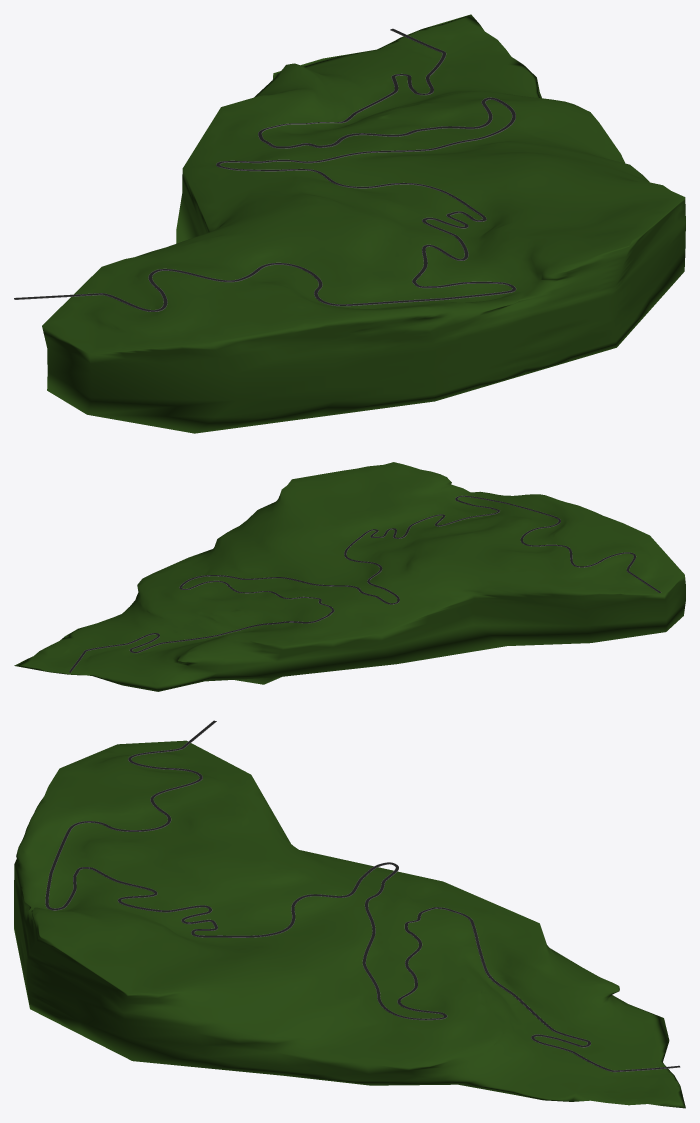
Rendered from Testmap.fbx.
3 renders of one model, top to bottom at view 1: azimuth 30°, elevation 25°; view 2: azimuth 150°, elevation 25°; view 3: azimuth 270°, elevation 25°, orthographic. The views are drawn at different scales.
Visible parts, largest first — view 1: Cube.001, Cube; view 2: Cube.001, Cube; view 3: Cube.001, Cube.
Part boxes in pixels (bbox=[...]): Cube.001: bbox=[42, 14, 685, 433]; Cube: bbox=[14, 28, 516, 311]; Cube.001: bbox=[14, 462, 685, 691]; Cube: bbox=[69, 495, 661, 672]; Cube.001: bbox=[14, 740, 685, 1108]; Cube: bbox=[45, 720, 680, 1072].
Bounding box in the file's own units: 27643 × 3898 × 25484.
